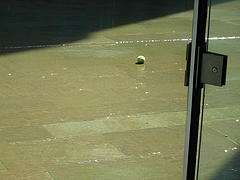tennis ball: (136, 55, 146, 65)
